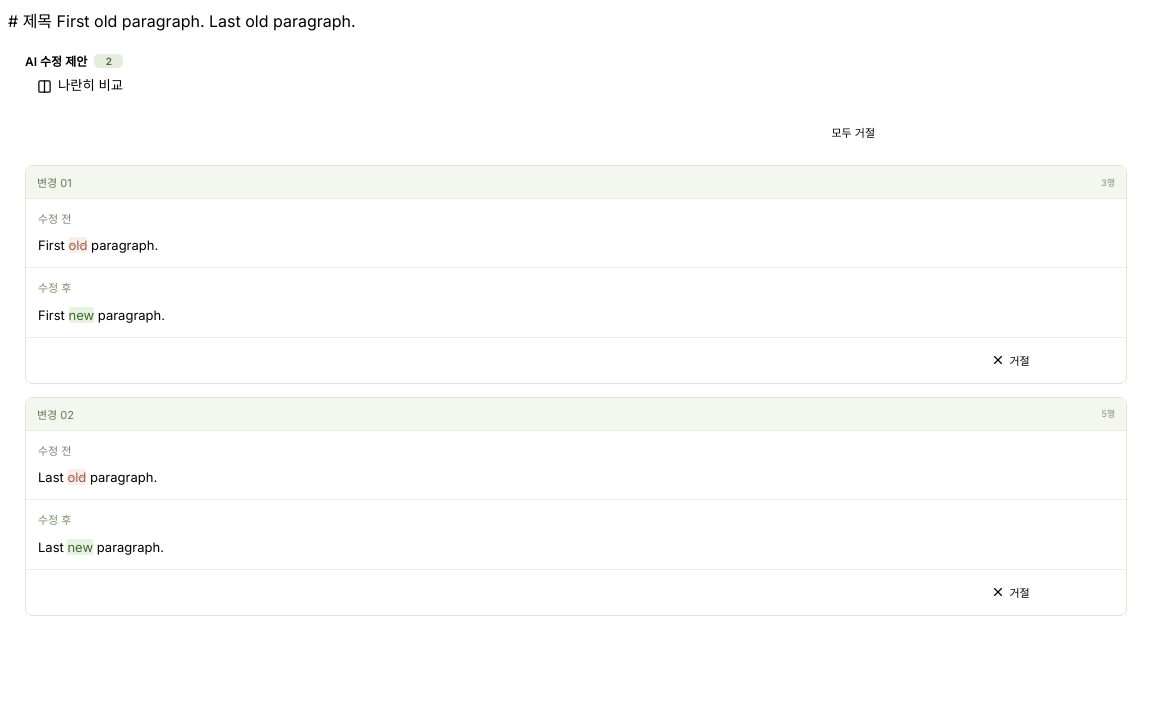
Scenario: comparison entry points › keeps proposal snapshots stable through individual approval and rejection
Click the button "나란히 비교" at point(80, 86), box [25,69,135,103]
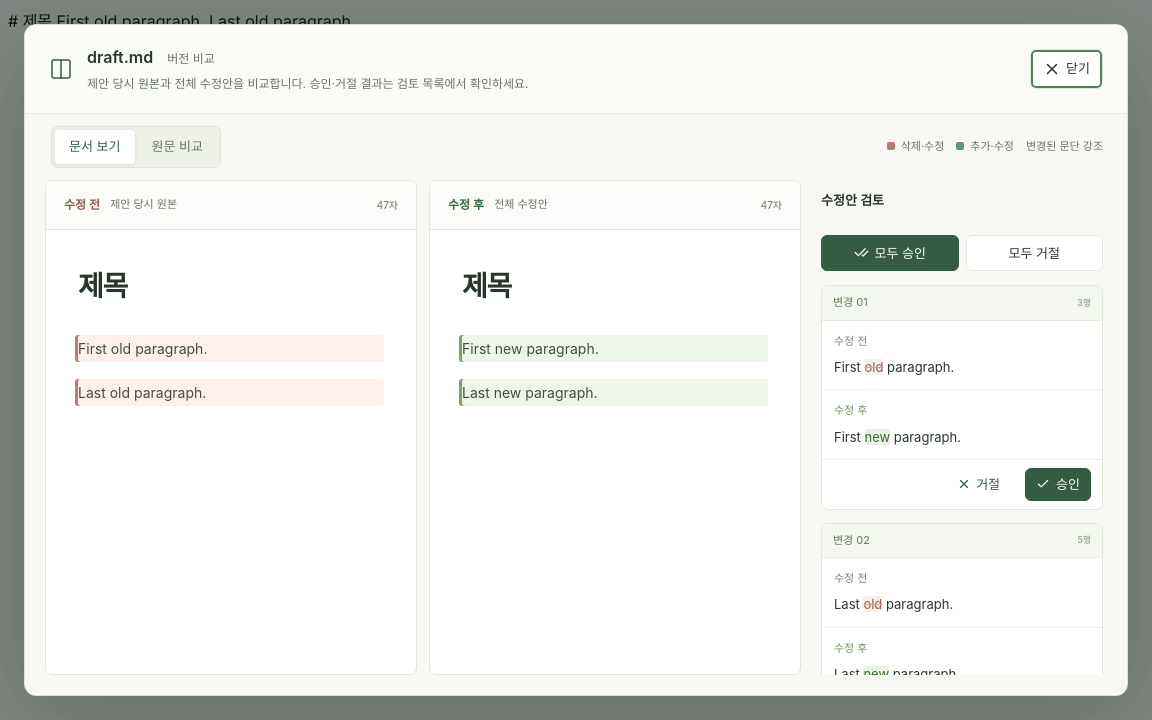
Check: the element named "수정 전 문서" shows "First old paragraph.", box [78,340,207,357]
Check: the element named "수정 후 문서" shows "Last new paragraph.", box [462,384,598,401]
Check: the button "승인" is shown
Click the button "승인" at point(1058, 484), box [1025,468,1091,501]
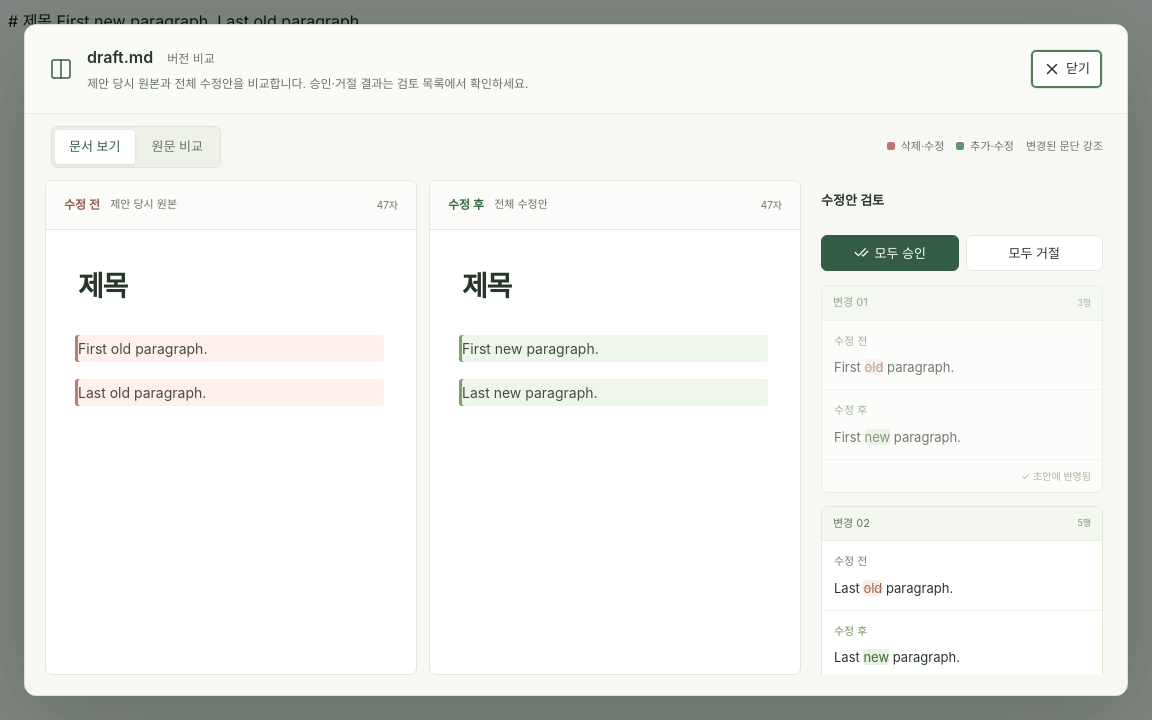
Check: the element named "수정 전 문서" shows "First old paragraph.", box [78,340,207,357]
Check: the element named "수정 후 문서" shows "Last new paragraph.", box [462,384,598,401]
Check: the button "모두 거절" is shown
Click the button "모두 거절" at point(1034, 253), box [966,235,1103,271]
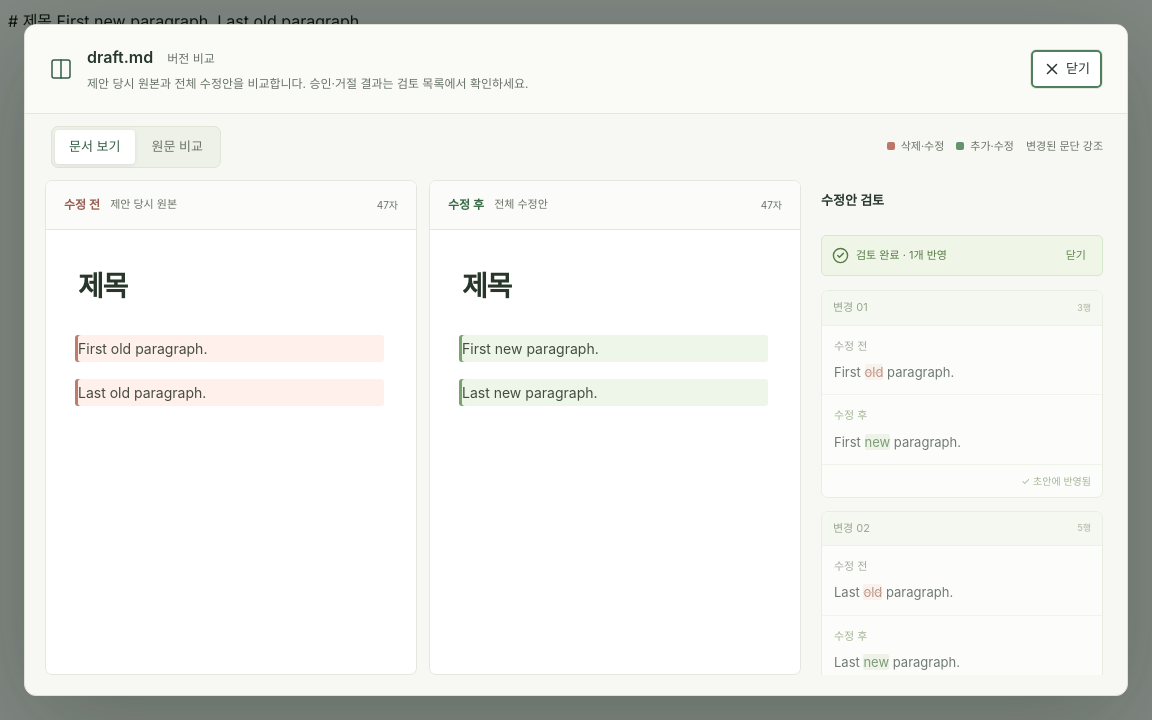
Check: the text "# 제목 First new paragraph. Last old paragraph." is shown, box [8,11,364,31]
Check: the element named "수정 후 문서" shows "Last new paragraph.", box [462,384,598,401]
Check: the dialog shows "검토 완료", box [856,248,909,262]
